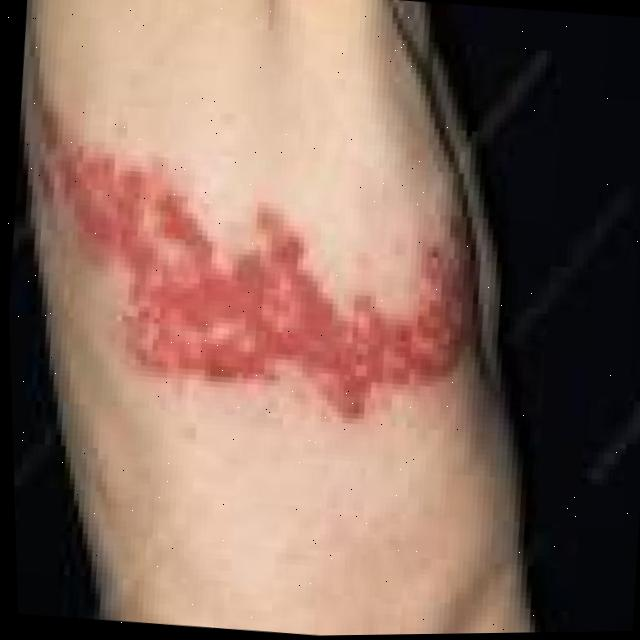Shingles: (3, 90, 498, 439)
